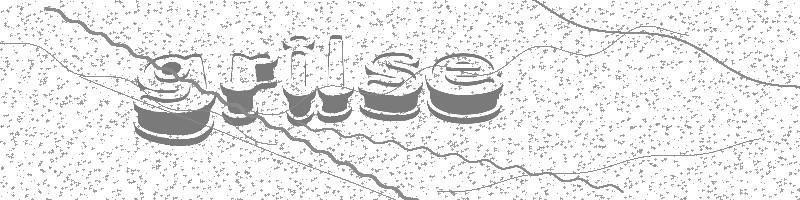e: (427, 53, 503, 124)
g: (135, 54, 214, 147)
i: (283, 36, 317, 126)
l: (319, 35, 353, 123)
r: (221, 52, 277, 125)
s: (359, 52, 424, 122)
